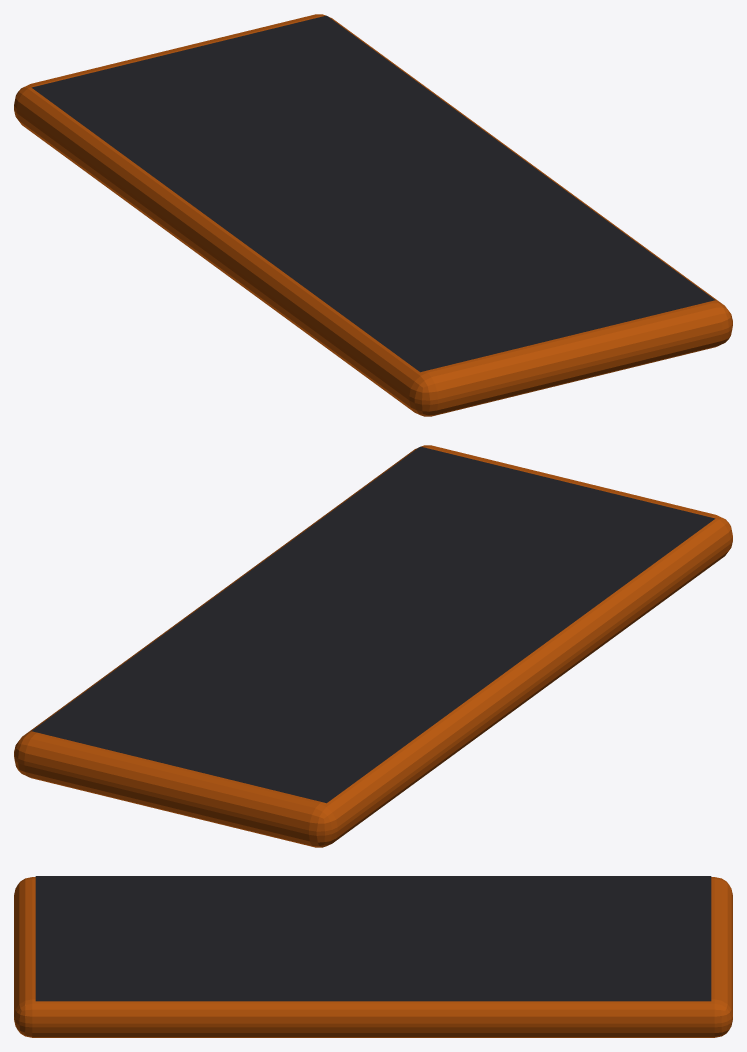
Rendered from Phone_756.glb.
3 views of the same model, one above another, from view 1: azimuth 30°, elevation 25°; view 2: azimuth 150°, elevation 25°; view 3: azimuth 270°, elevation 25° (orthographic). The views are drawn at different scales.
Parts seen in each view (by area): view 1: Phone_Screen, Phone_Body; view 2: Phone_Screen, Phone_Body; view 3: Phone_Screen, Phone_Body.
Boxes of the visible parts, box(x1,y1,x2,y2) form: Phone_Screen: box(31, 15, 715, 372); Phone_Body: box(14, 14, 732, 416); Phone_Screen: box(31, 446, 715, 803); Phone_Body: box(14, 445, 732, 847); Phone_Screen: box(35, 876, 711, 1001); Phone_Body: box(14, 877, 732, 1037).
Bounding box in the file's own units: 0.0746 × 0.0095 × 0.1665.
